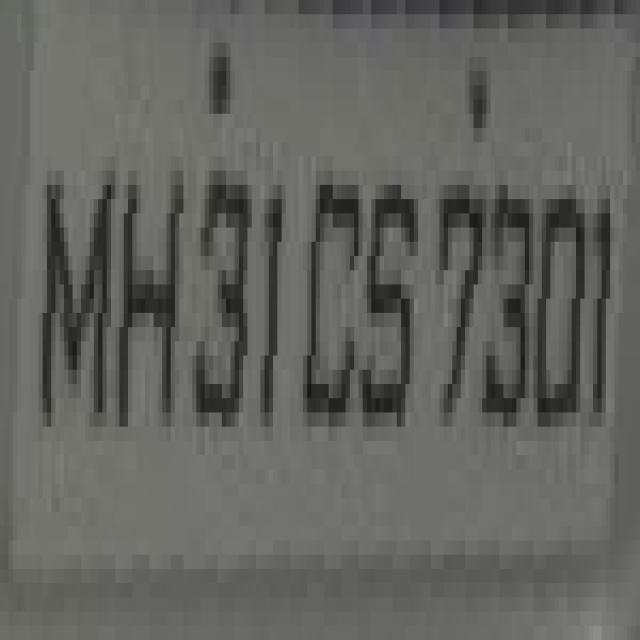license_plate: (13, 14, 640, 583)
